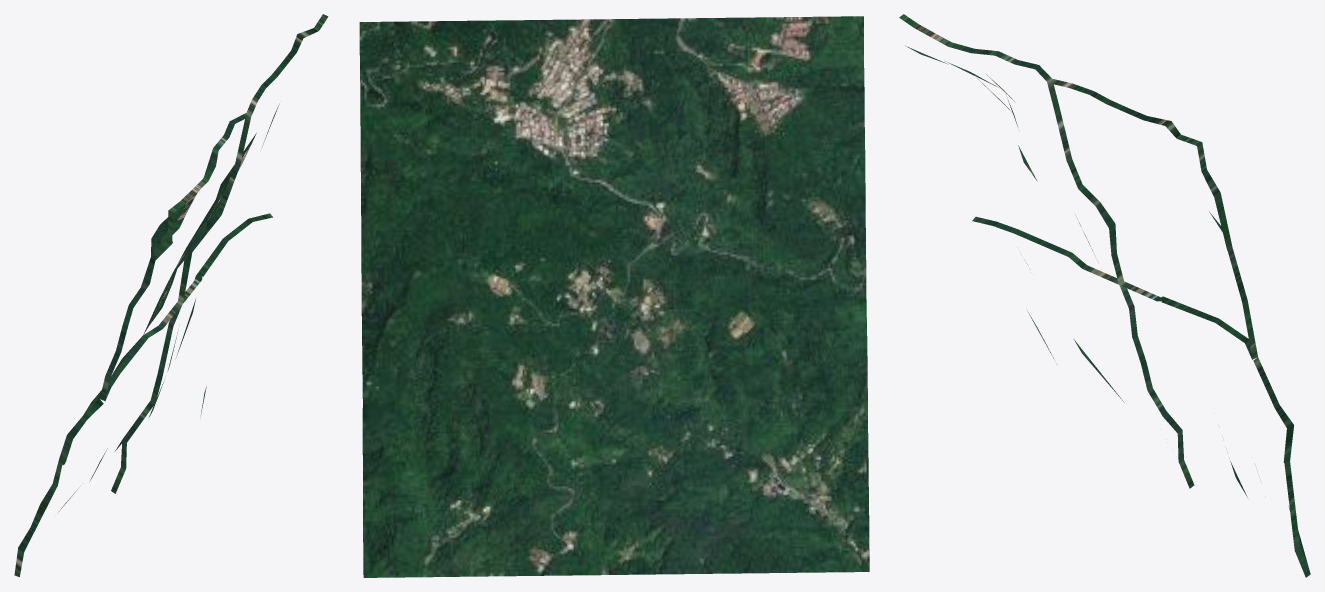
3 views of the same model, side by side, from view 1: azimuth 30°, elevation 25°; view 2: azimuth 150°, elevation 25°; view 3: azimuth 270°, elevation 25° (orthographic). The views are drawn at different scales.
Size of the model in its own units: 2228 by 2420 by 1955.
1 material, 1 textured.
